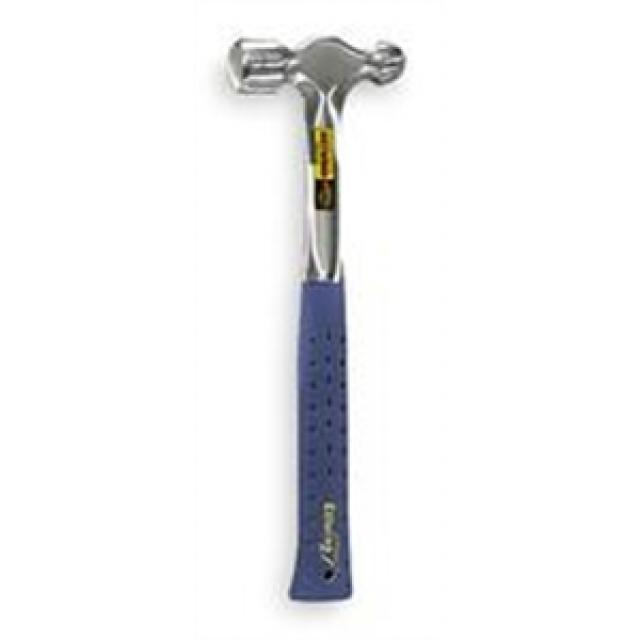hammer: (213, 26, 426, 608)
